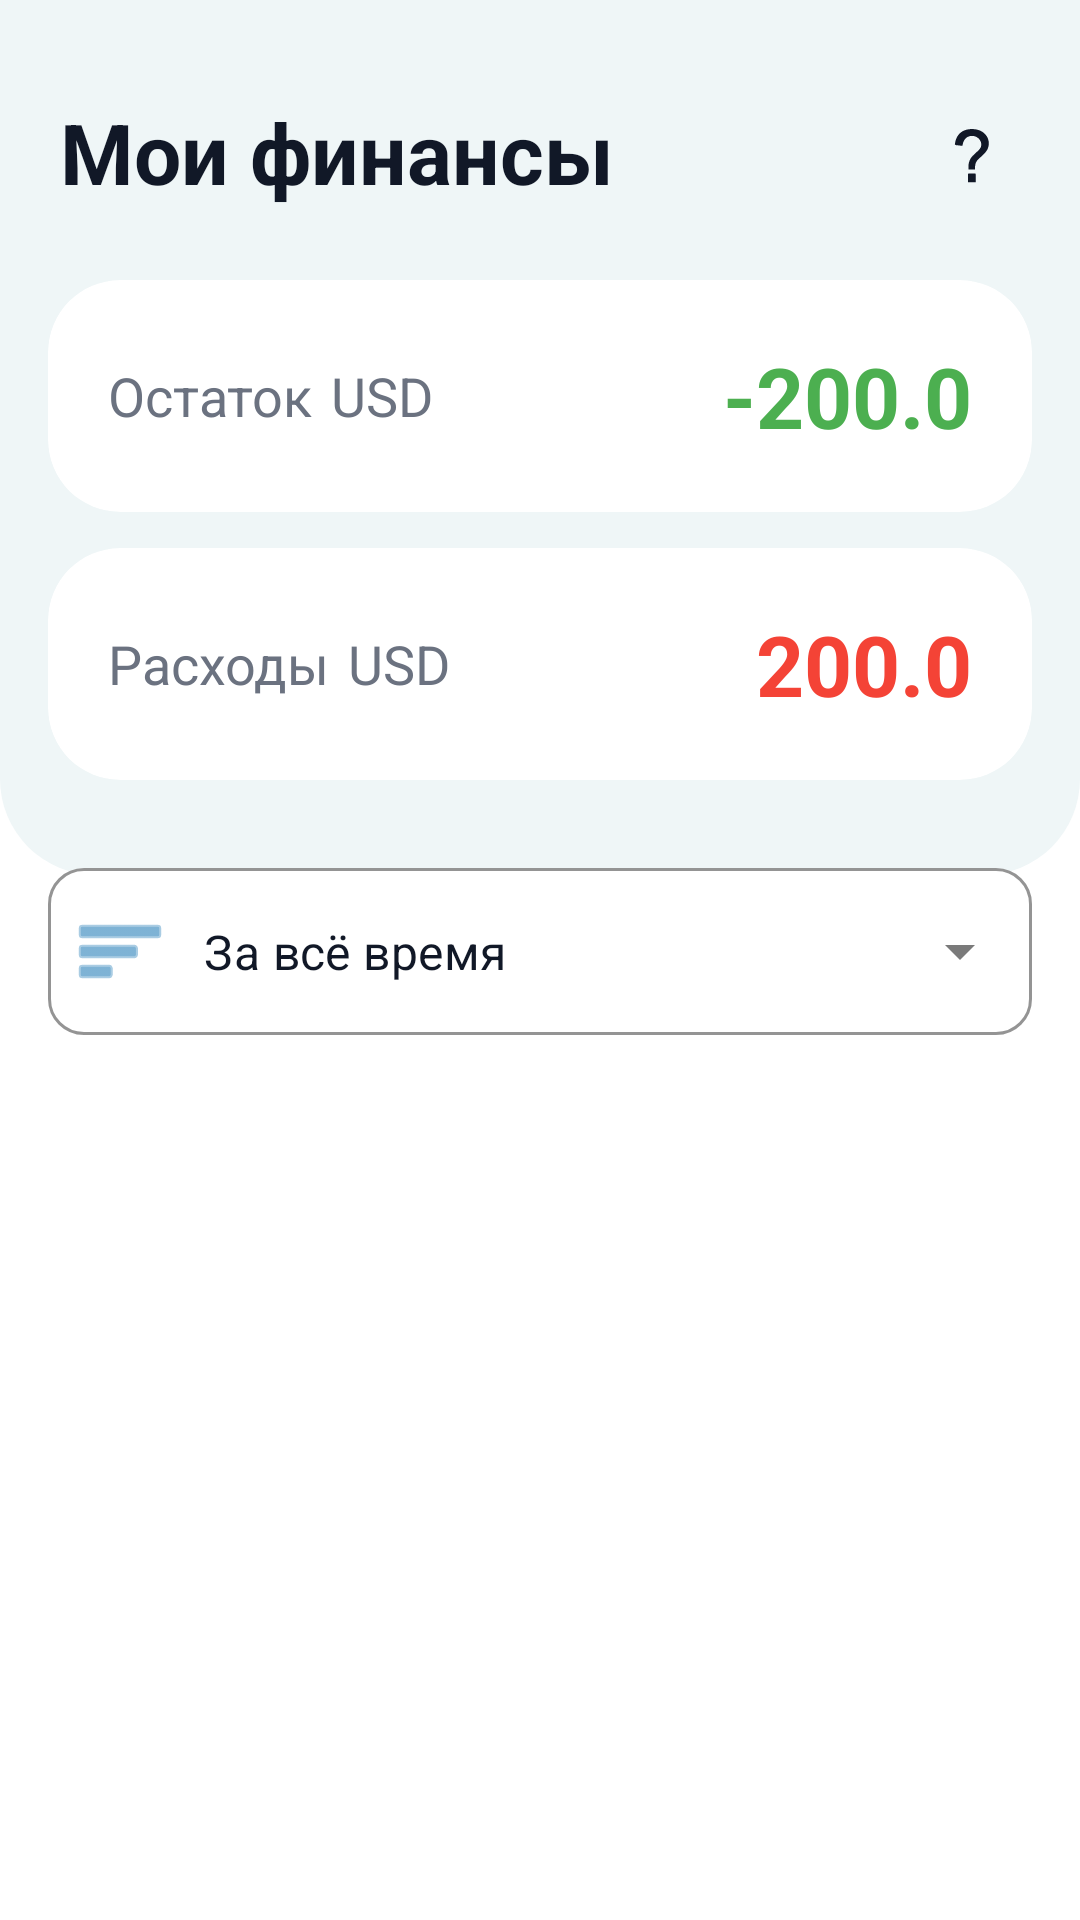

Point at icon controls on the screen. Image size 1080*1920, points as [x,y].
question: [972,156]
